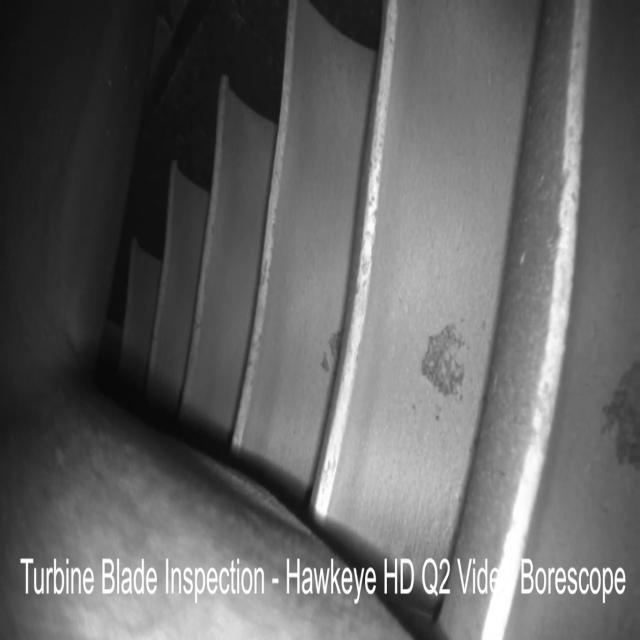burn: (422, 324, 464, 394), (322, 325, 341, 367)
turbine_blade: (312, 0, 543, 543), (238, 0, 376, 512), (187, 81, 274, 428), (145, 165, 211, 431)
